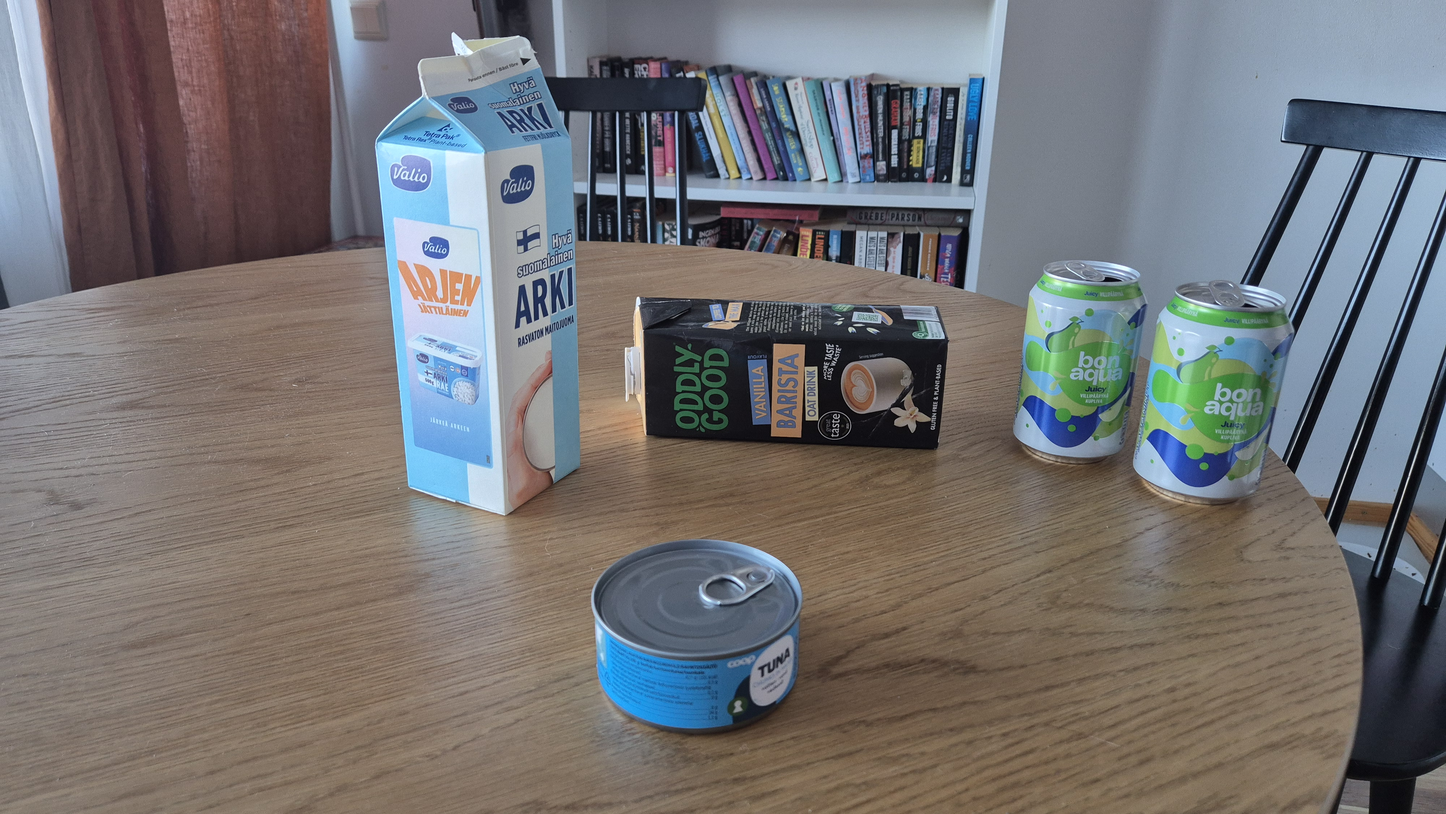Dryckeskartong: (374, 33, 582, 516), (625, 297, 950, 450)
Konservburk: (590, 540, 801, 736)
Pantburk: (1134, 280, 1294, 505), (1012, 260, 1148, 465)
